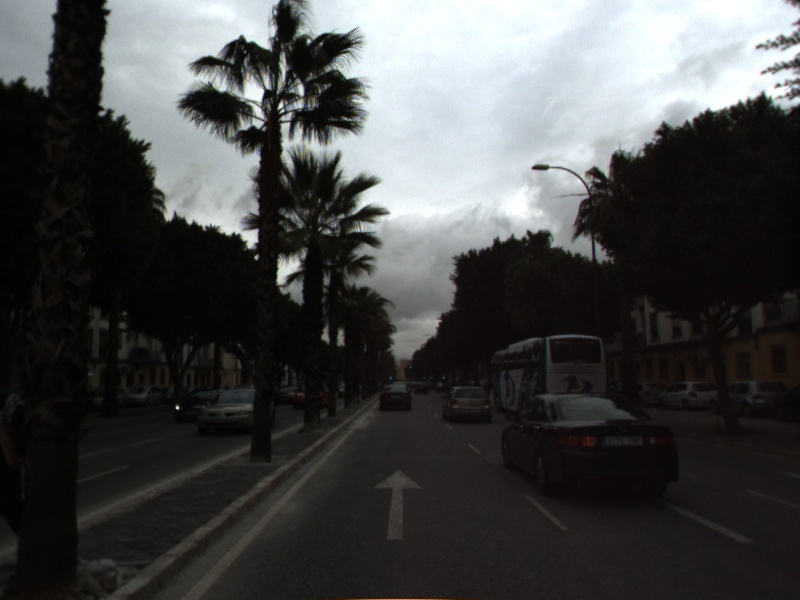STRAIGHT: (372, 467, 425, 542)
